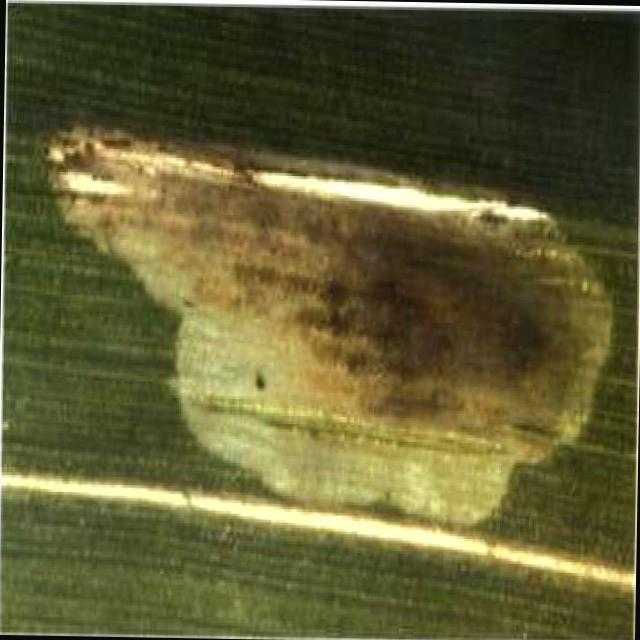ricebug: (47, 129, 612, 524)
